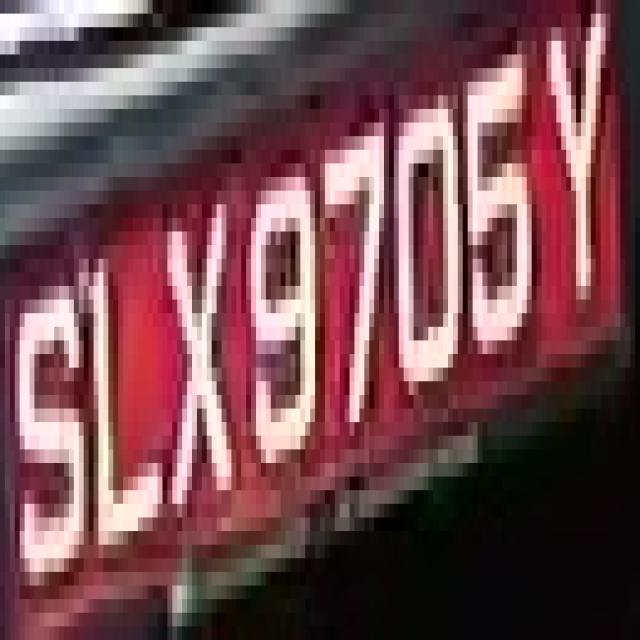0: (374, 82, 468, 449)
5: (458, 27, 536, 409)
7: (310, 123, 399, 463)
9: (231, 122, 320, 476)
L: (74, 218, 167, 558)
S: (15, 272, 94, 613)
X: (153, 150, 241, 558)
Y: (536, 27, 610, 354)
